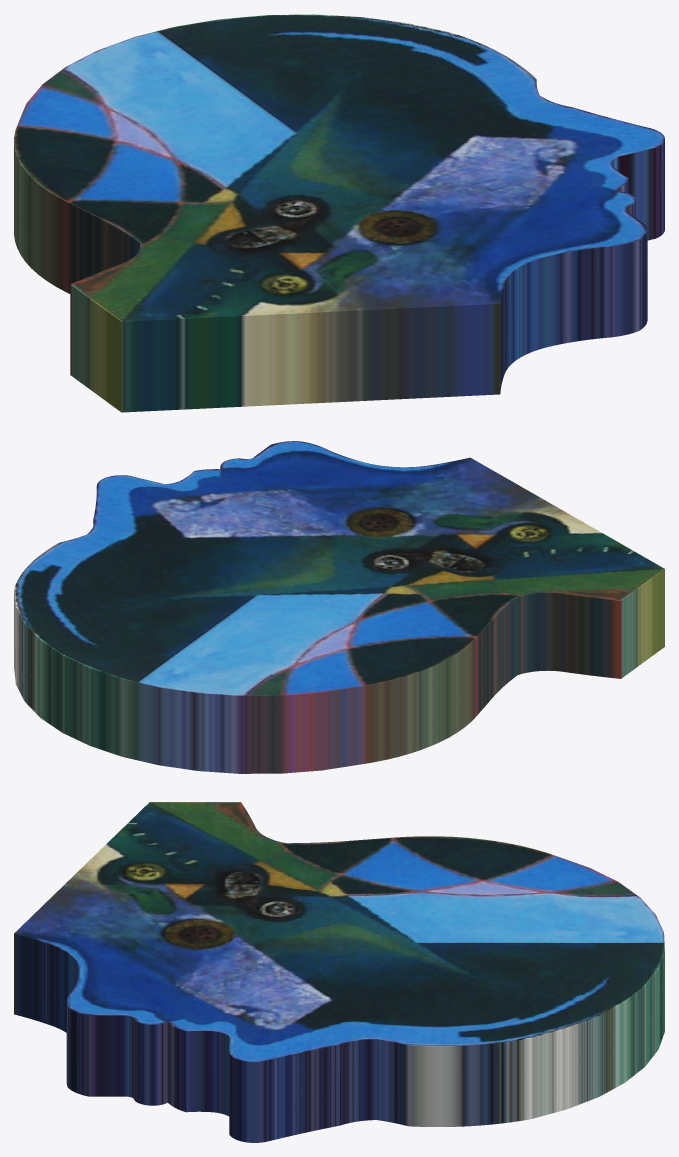
File: sin titulo odontologia 4.dae
The picture shows the model from 3 angles, top to bottom: view 1: azimuth 30°, elevation 25°; view 2: azimuth 150°, elevation 25°; view 3: azimuth 270°, elevation 25°; orthographic projection. The views are drawn at different scales.
Visible parts, largest first — view 1: SketchUp; view 2: SketchUp; view 3: SketchUp.
Boxes of the visible parts, x1,y1,x2,y2 form: SketchUp: (14,14,664,412); SketchUp: (14,441,664,773); SketchUp: (14,802,664,1142).
Bounding box in the file's own units: 38.42 × 40.62 × 5.56.
Materials: 1 (1 with a texture image).
